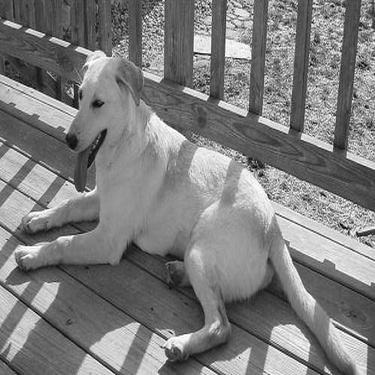dog: (7, 40, 365, 373)
